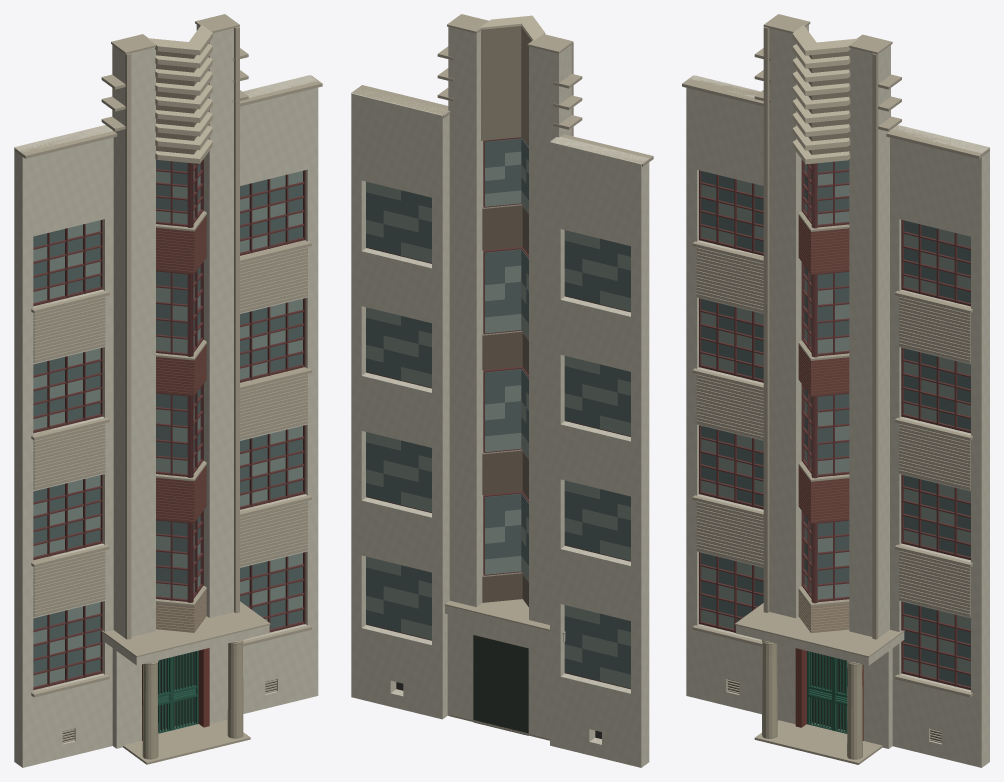
Rendered from xuhui-elisabeth-apartments-north-stair-bay-lod.glb.
3 views of the same model, side by side, from view 1: azimuth 30°, elevation 25°; view 2: azimuth 150°, elevation 25°; view 3: azimuth 330°, elevation 25° (orthographic).
Visible parts, largest first — view 1: 伊丽莎白公寓北立面主楼梯间与雨厦; view 2: 伊丽莎白公寓北立面主楼梯间与雨厦; view 3: 伊丽莎白公寓北立面主楼梯间与雨厦.
Part boxes in pixels (box(x1,y1,x2,y2)): 伊丽莎白公寓北立面主楼梯间与雨厦: box(14, 14, 322, 767); 伊丽莎白公寓北立面主楼梯间与雨厦: box(351, 14, 653, 767); 伊丽莎白公寓北立面主楼梯间与雨厦: box(682, 14, 989, 767).
Bounding box in the file's own units: 7.92 × 17.91 × 1.89.
Materials: 17 (1 with a texture image).
